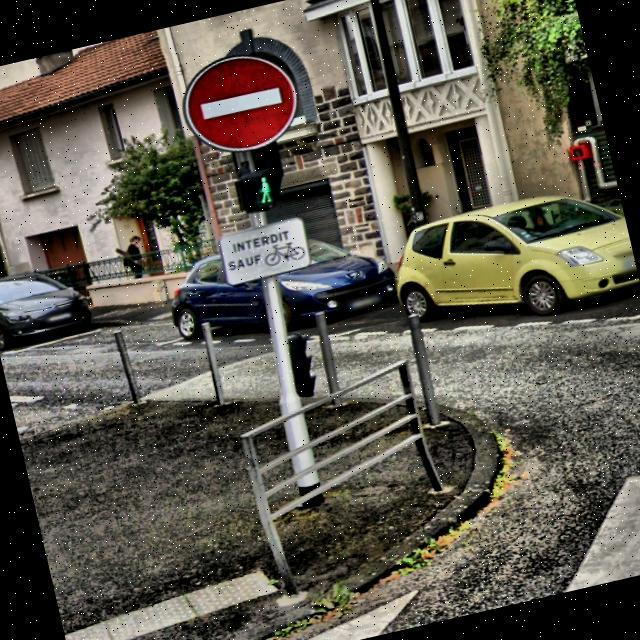green_light: (252, 172, 276, 205)
